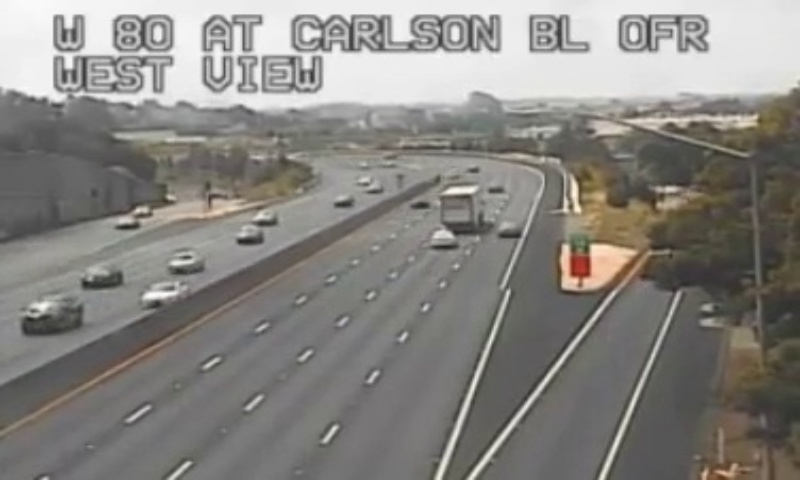car: (427, 229, 455, 247)
truck: (438, 184, 482, 232)
